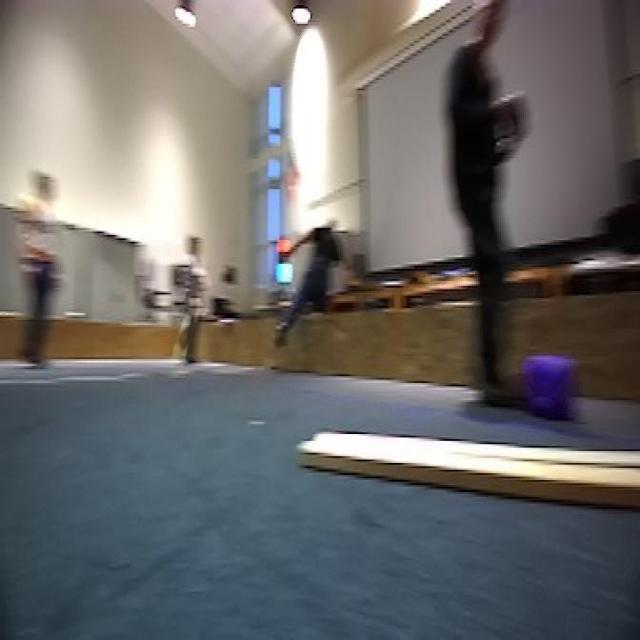frc_cube: (524, 345, 586, 429)
